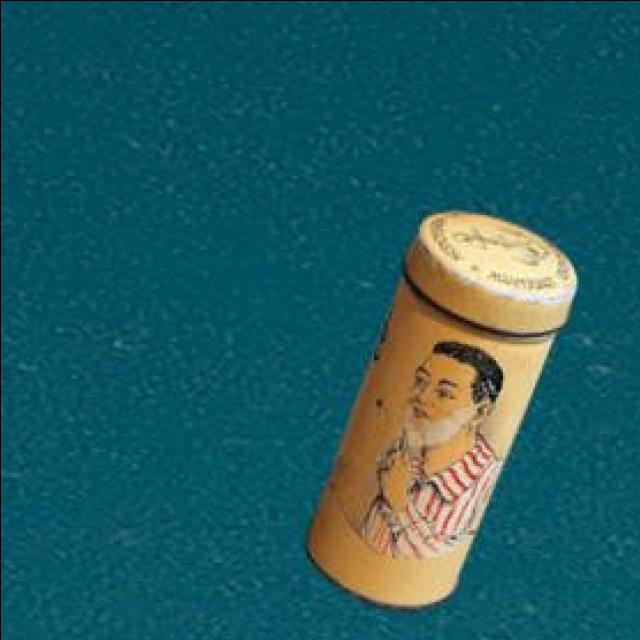logam: (303, 215, 572, 611)
